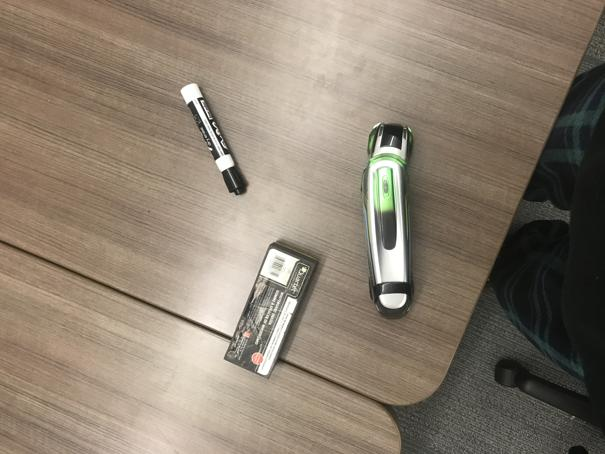Freewheel: (361, 119, 415, 321)
